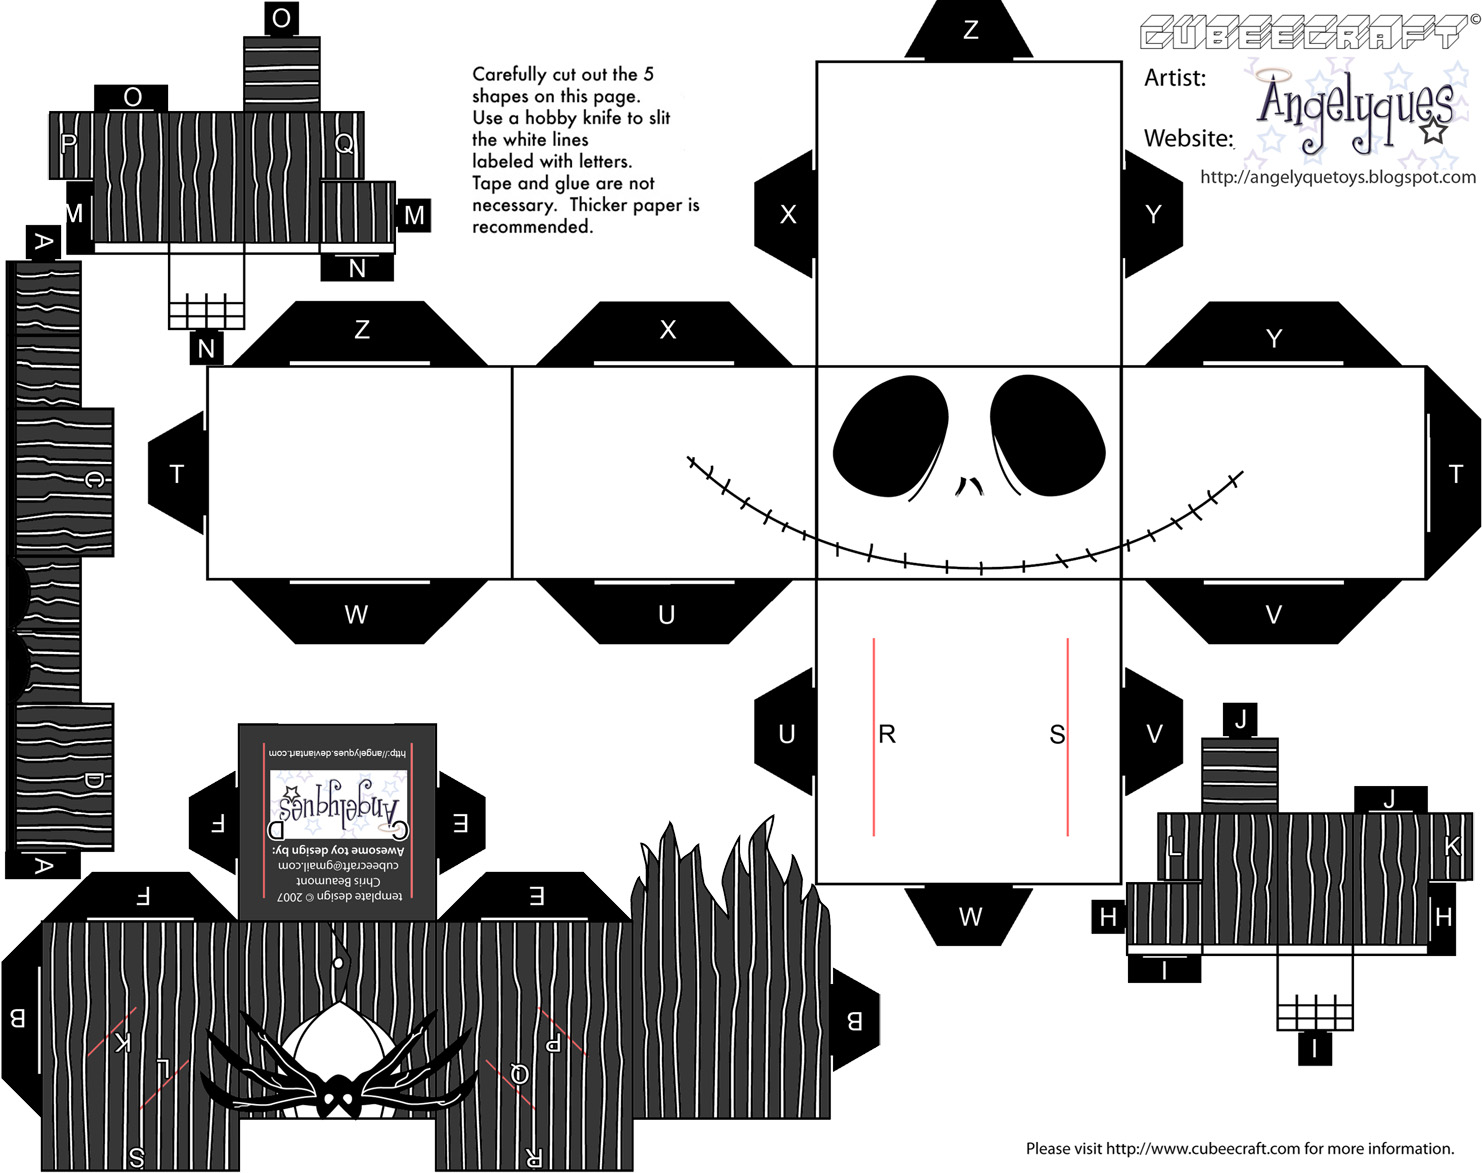Jack Skellington: (684, 373, 1249, 580)
